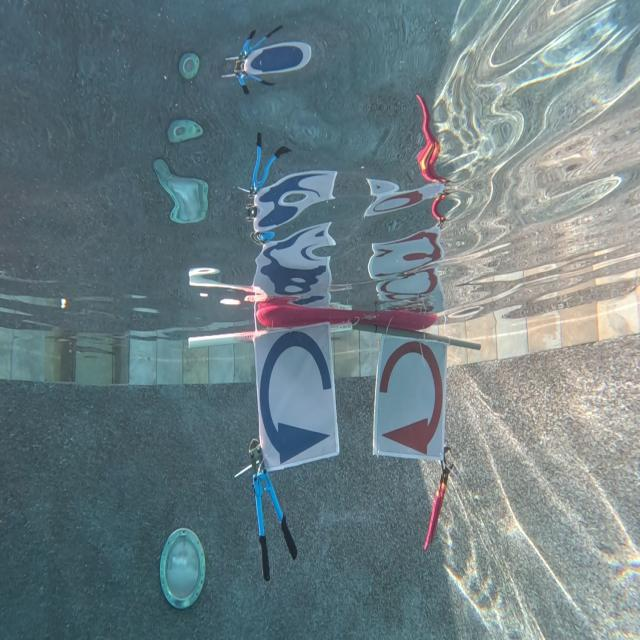blue_side: (256, 329, 336, 461)
red_side: (375, 335, 446, 460)
